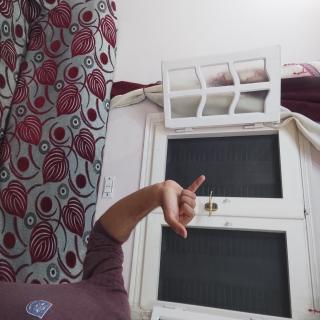YA: (127, 145, 181, 216)
